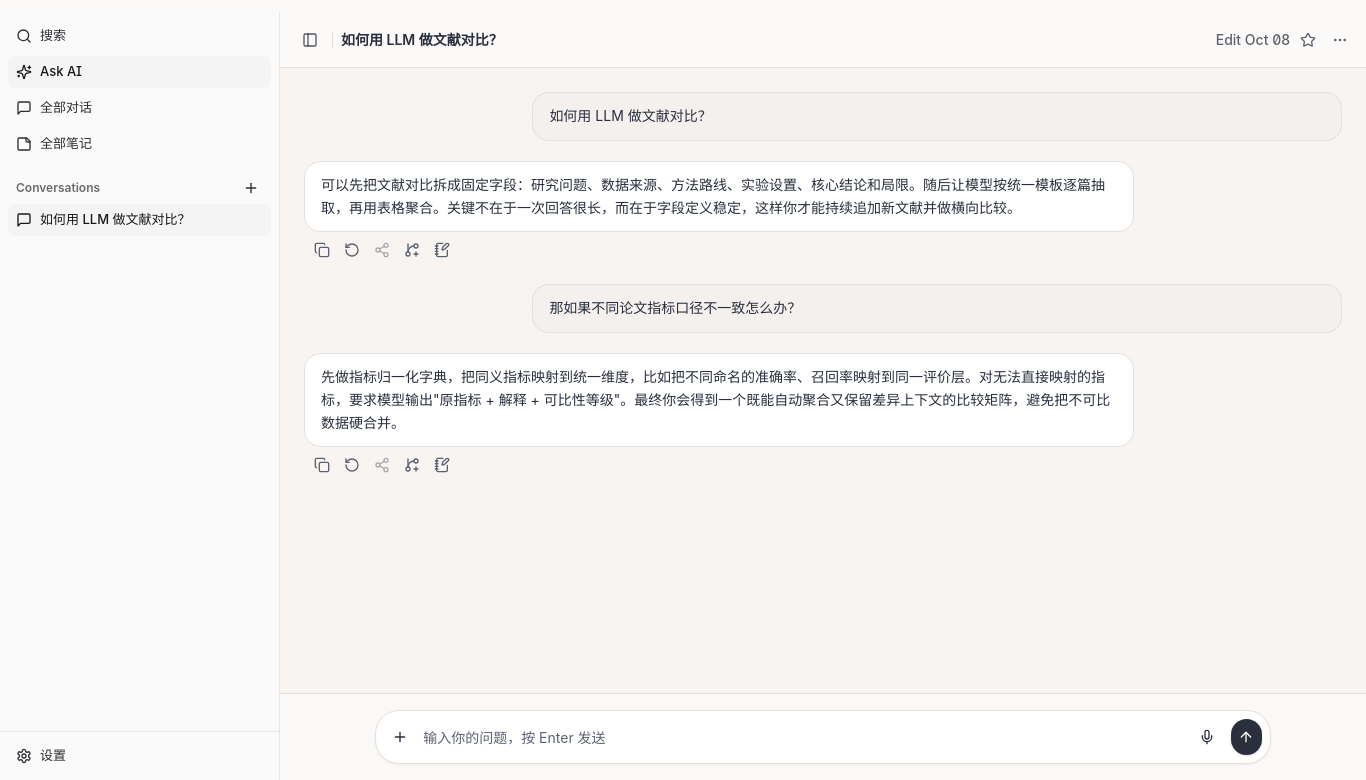
Test case: HomePage › supports sending message and mock streaming reply in linear mode
The image size is (1366, 780).
In the field named "聊天输入": (803, 737) 423,719 -> 1184,755, type "给我一个可执行的研究流程"
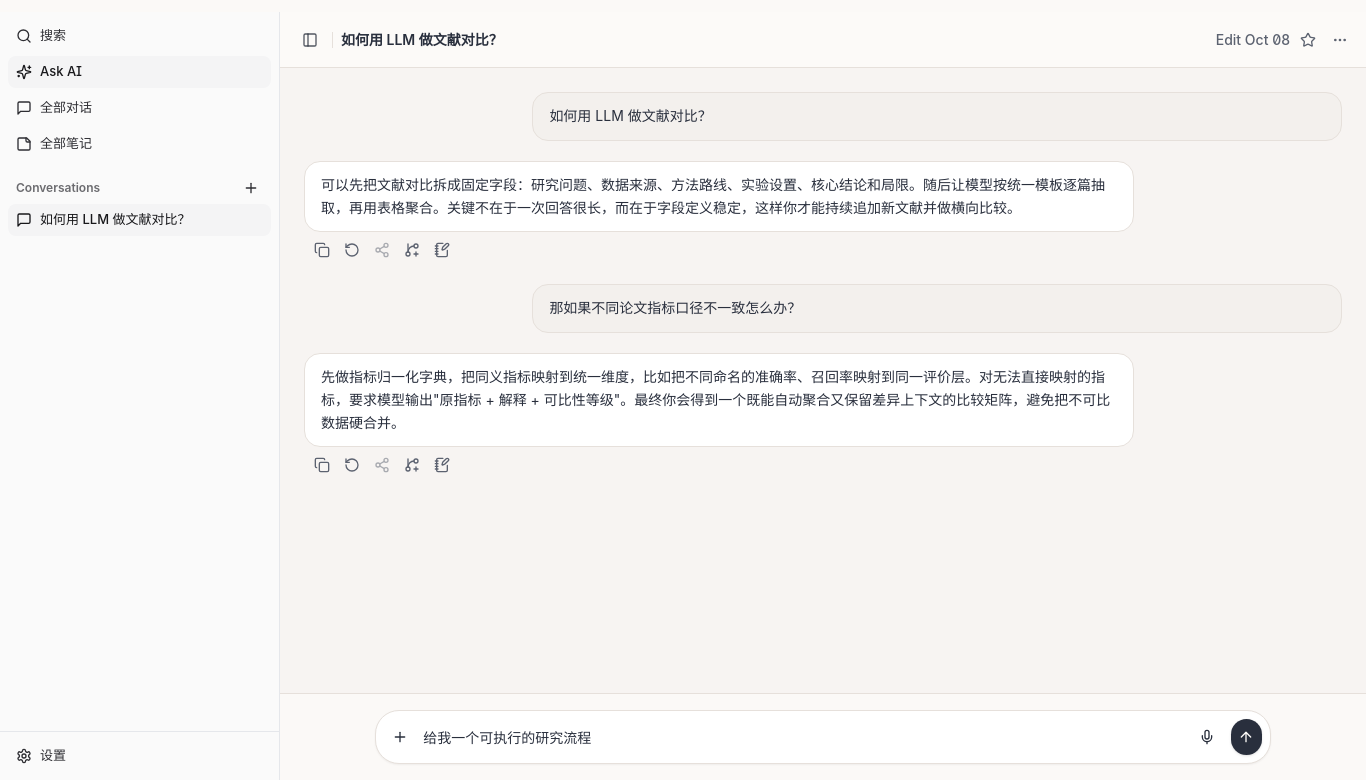
Press Enter in the field named "聊天输入", box 423,719 -> 1184,755
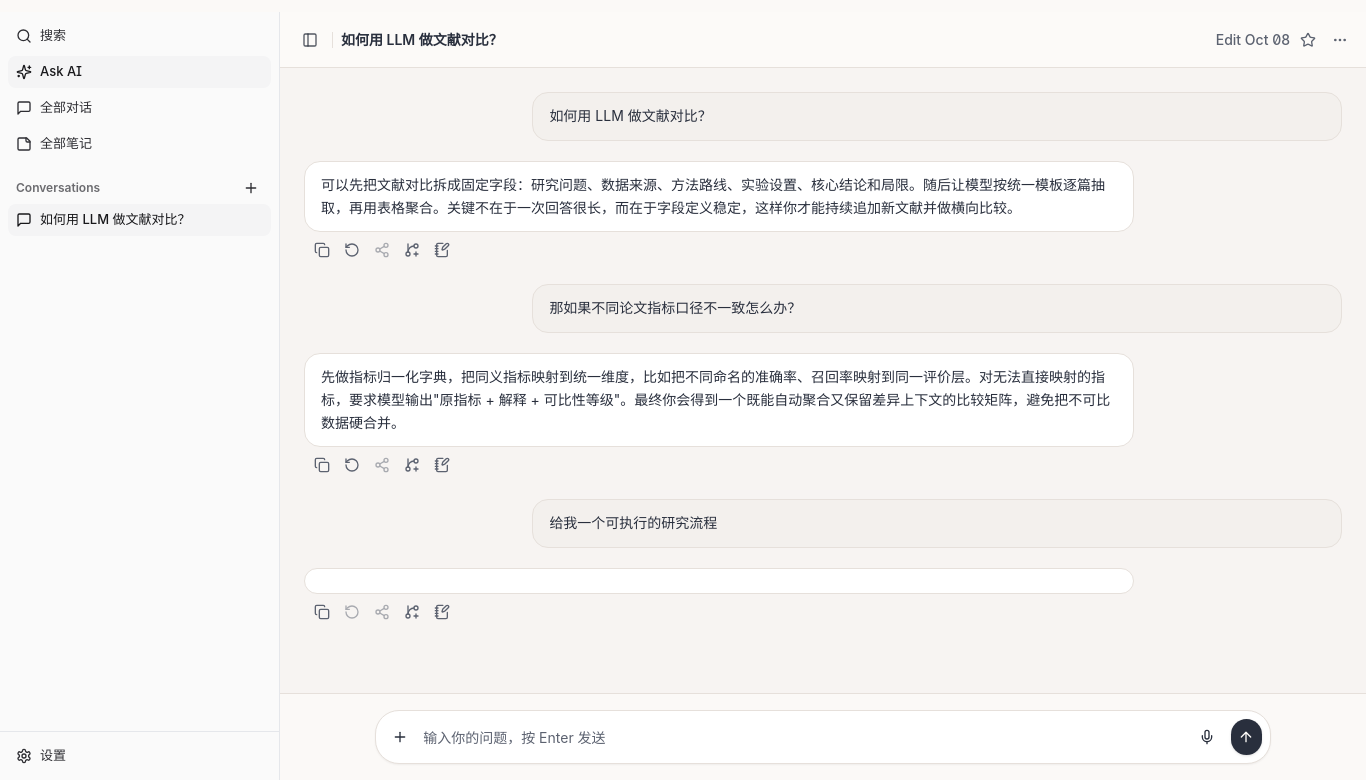
Expected: the text "给我一个可执行的研究流程" is shown, 549,514 -> 717,531
